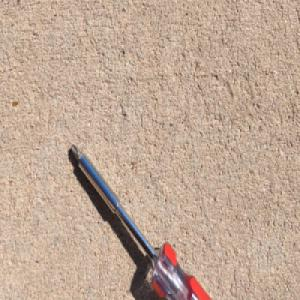Screwdriver: (70, 140, 221, 300)
